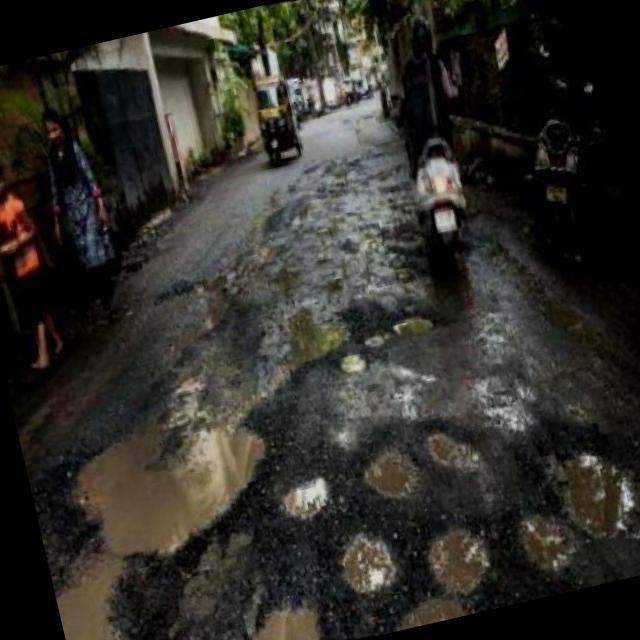Pothole: (56, 429, 264, 640), (557, 457, 634, 539), (427, 528, 491, 594), (514, 512, 577, 576), (340, 531, 396, 599), (392, 592, 468, 632), (366, 447, 421, 498), (428, 431, 479, 473), (251, 609, 318, 640), (283, 476, 330, 520), (392, 315, 436, 339), (340, 352, 367, 375)
